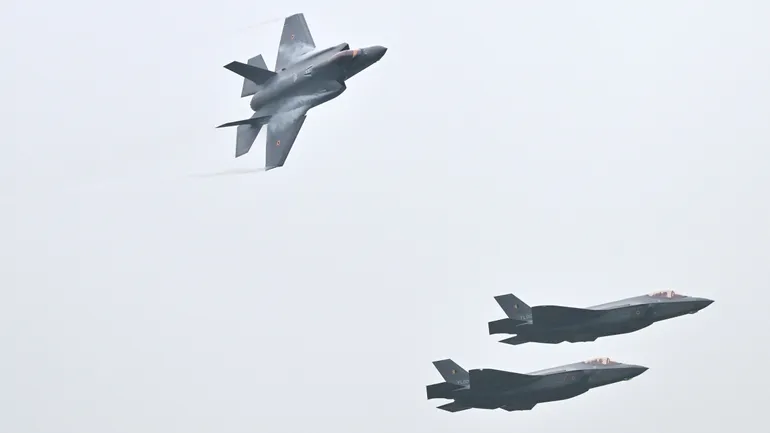F35: (216, 13, 386, 170), (427, 355, 649, 412), (488, 290, 713, 344)
